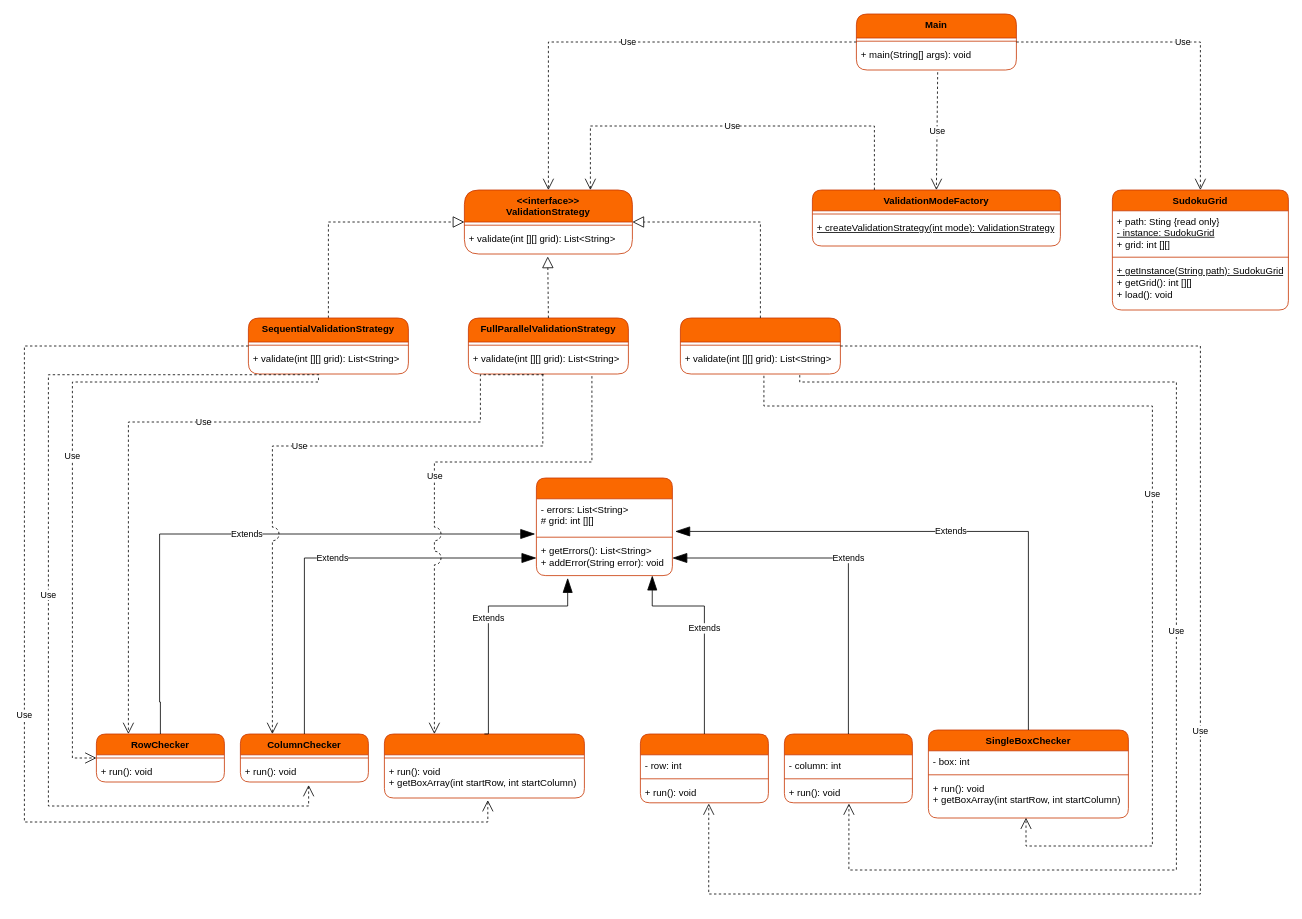
Image size: 1302x919. Some labels were removed from this diagram. The shapes that lost their labels are listed below. From the top down, each one's box as (x1, y1, x2, y2) in pixels, then its label:
(680, 317, 840, 374): TripleThreadValidationStrategy
(536, 477, 672, 576): Checker
(384, 733, 584, 798): BoxChecker
(640, 733, 768, 803): SingleRowChecker
(784, 733, 912, 803): SingleColumnChecker
